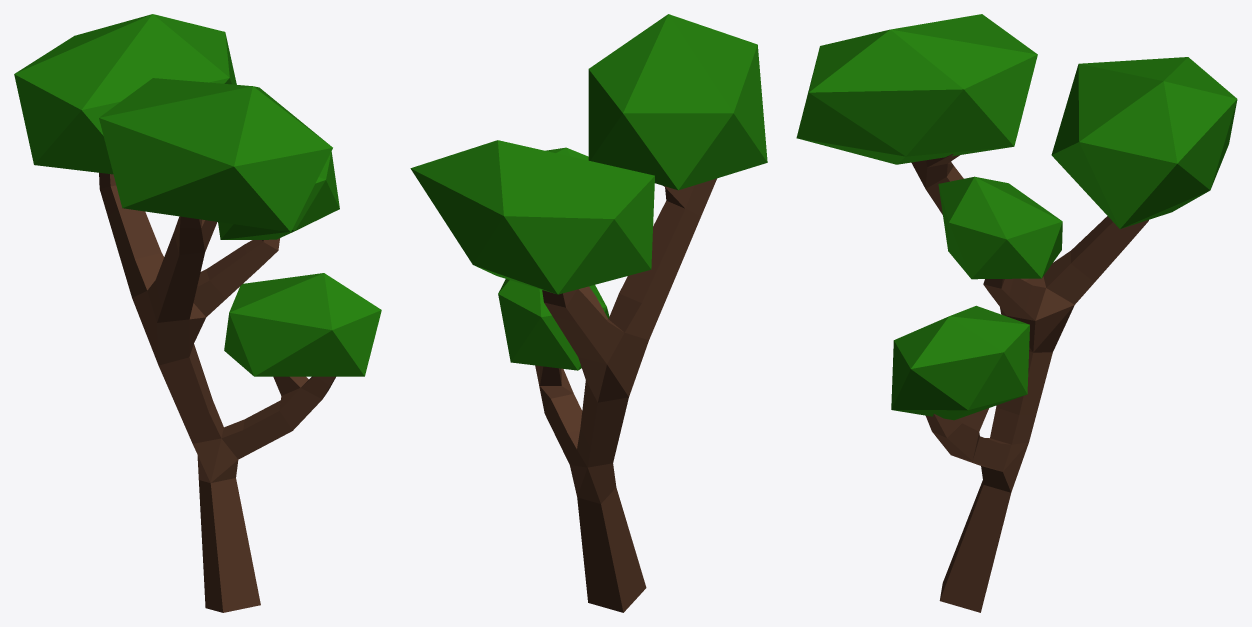
File: Tree_VAR3_v002.fbx
3 views of the same model, side by side, from view 1: azimuth 30°, elevation 25°; view 2: azimuth 150°, elevation 25°; view 3: azimuth 270°, elevation 25° (orthographic). The views are drawn at different scales.
Visible parts, largest first — view 1: Plane.004; view 2: Plane.004; view 3: Plane.004.
Boxes of the visible parts, x1=… form: Plane.004: x1=14, y1=14, x2=381, y2=612; Plane.004: x1=410, y1=14, x2=767, y2=612; Plane.004: x1=796, y1=14, x2=1237, y2=612.
Bounding box in the file's own units: 1.03 × 2.17 × 1.53.
